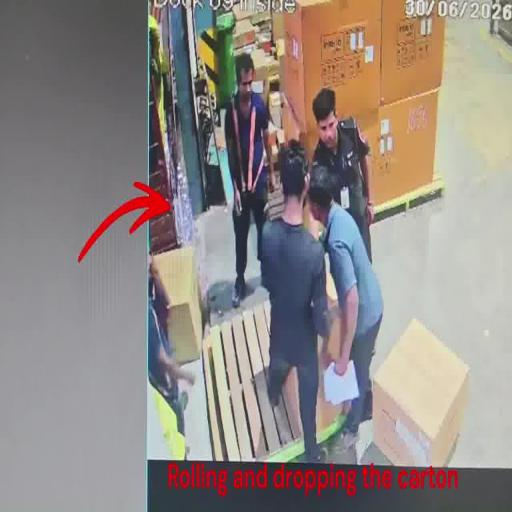carton: (371, 317, 469, 474), (283, 1, 381, 148), (283, 242, 345, 444), (376, 89, 446, 210), (379, 0, 447, 106), (152, 245, 202, 364)
pallet: (198, 290, 331, 465), (258, 177, 283, 223)
person: (259, 139, 330, 468), (306, 156, 384, 443), (224, 53, 276, 306), (308, 86, 376, 262), (148, 252, 195, 417)
